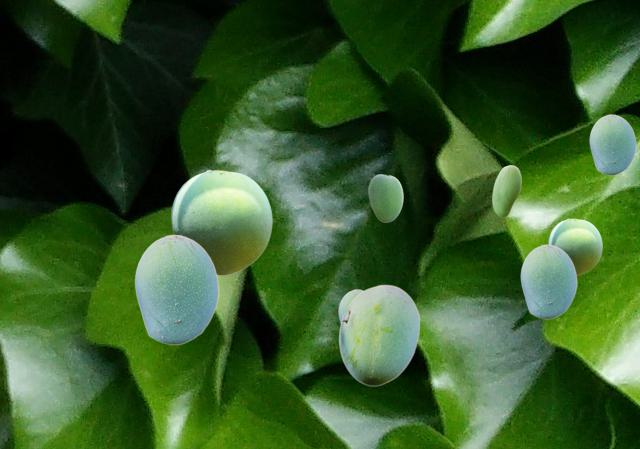green_mango: (171, 169, 271, 274), (134, 234, 218, 344), (338, 284, 419, 385), (520, 244, 576, 318), (548, 218, 601, 274), (589, 114, 635, 174), (368, 174, 402, 221), (492, 165, 520, 216), (338, 289, 362, 321)
